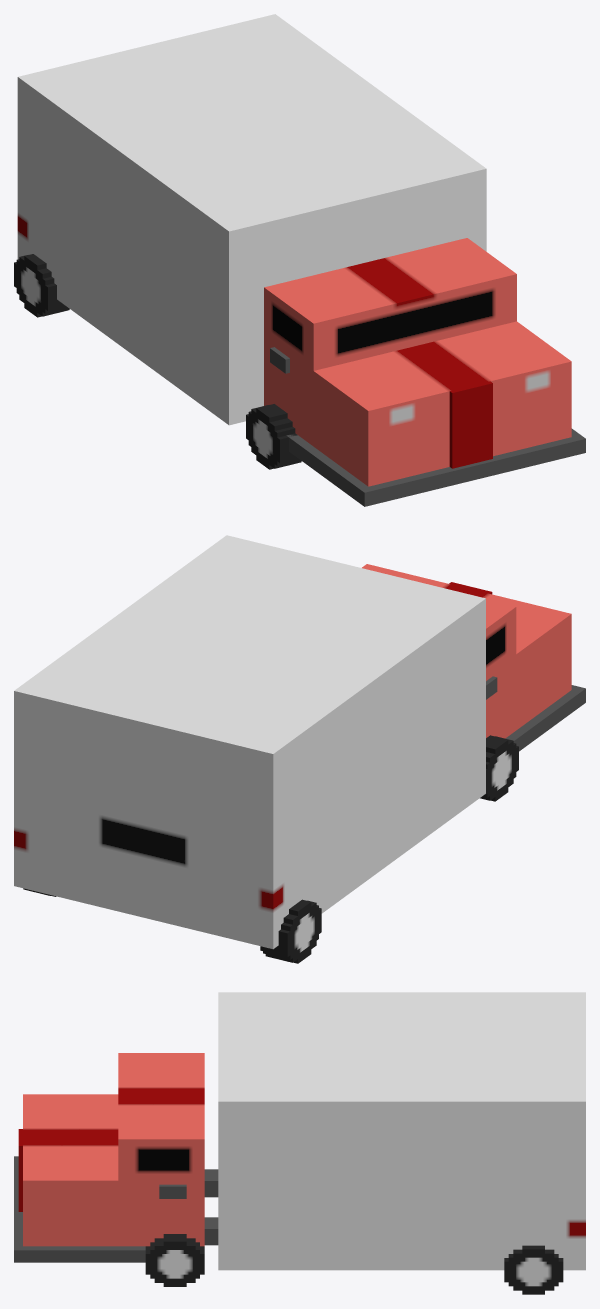
The model's file is truck_1.fbx.
3 renders of one model, top to bottom at view 1: azimuth 30°, elevation 25°; view 2: azimuth 150°, elevation 25°; view 3: azimuth 270°, elevation 25°, orthographic. The views are drawn at different scales.
Visible parts, largest first — view 1: body, back_right_wheel, back_left_wheel; view 2: body, back_left_wheel, back_right_wheel; view 3: body, front_right_wheel, front_left_wheel.
Part boxes in pixels (left/top/right/bottom): body: left=17, top=14, right=585, bottom=506; back_right_wheel: left=246, top=404, right=301, bottom=469; back_left_wheel: left=14, top=254, right=69, bottom=317; body: left=14, top=535, right=585, bottom=949; back_left_wheel: left=260, top=899, right=321, bottom=963; back_right_wheel: left=480, top=735, right=518, bottom=801; body: left=14, top=992, right=585, bottom=1270; front_right_wheel: left=145, top=1234, right=204, bottom=1286; front_left_wheel: left=504, top=1245, right=563, bottom=1294.
Bounding box in the file's own units: 61 × 46 × 126.
Materials: 1 (1 with a texture image).
